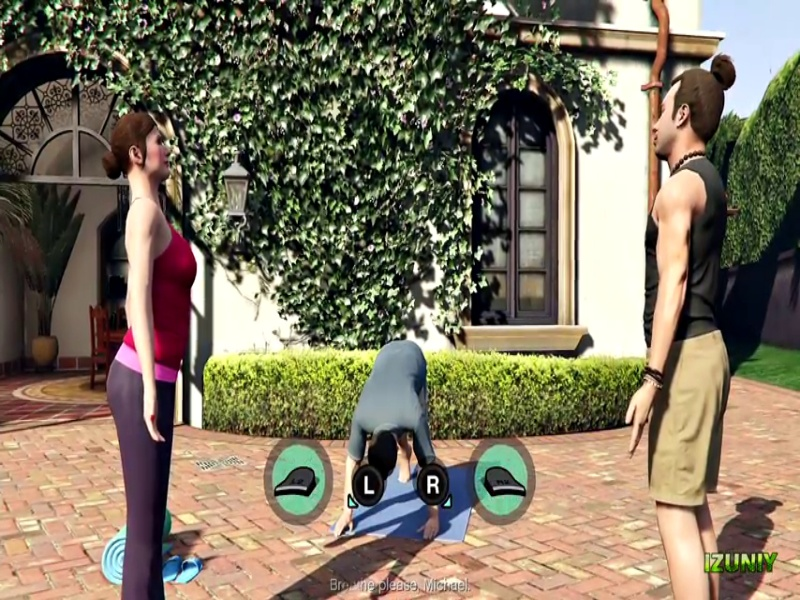licenseplate: (198, 96, 600, 114)
